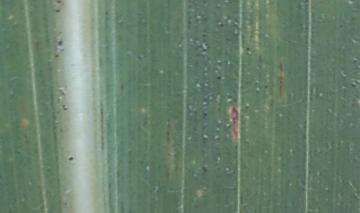tarspot: (66, 156, 75, 162), (216, 75, 222, 81), (58, 40, 63, 46), (55, 9, 61, 14), (53, 53, 59, 58), (56, 1, 61, 3)
